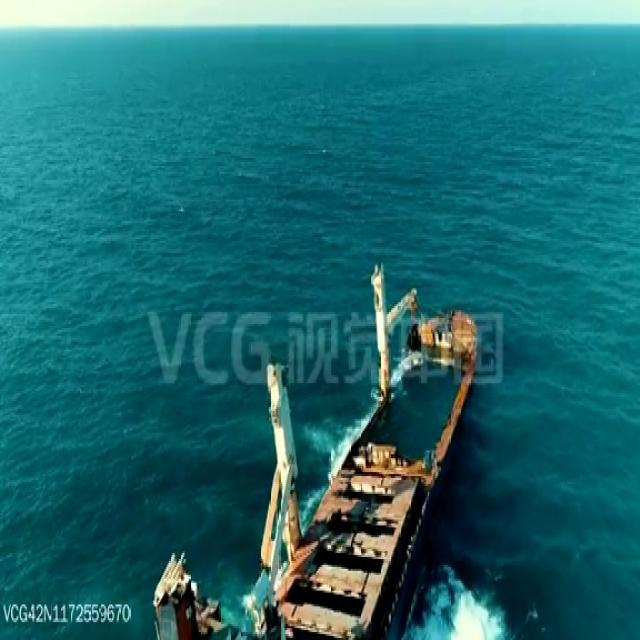cargoship: (134, 251, 473, 640)
